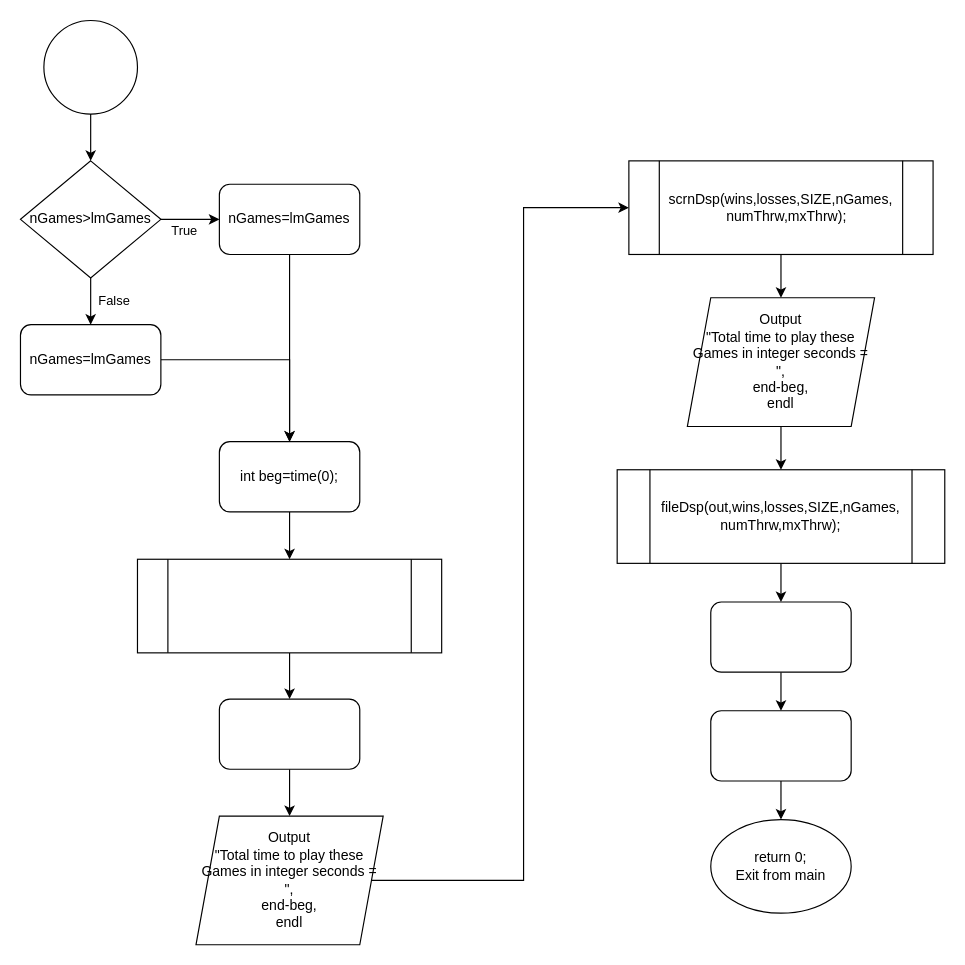
This 965x965 diagram has some shape labels left out. The centre of each missing label's shape, as x and y in pixels:
"// Close Input File in.close();" goes at pixel 780 636.
"// Close Output File out.close();" goes at pixel 780 745.
"crpGame(wins,losses,SIZE, nGames, numThrw,mxThrw);" goes at pixel 289 605.
"int end=time(0);" goes at pixel 289 733.
"Page 1" goes at pixel 90 66.
